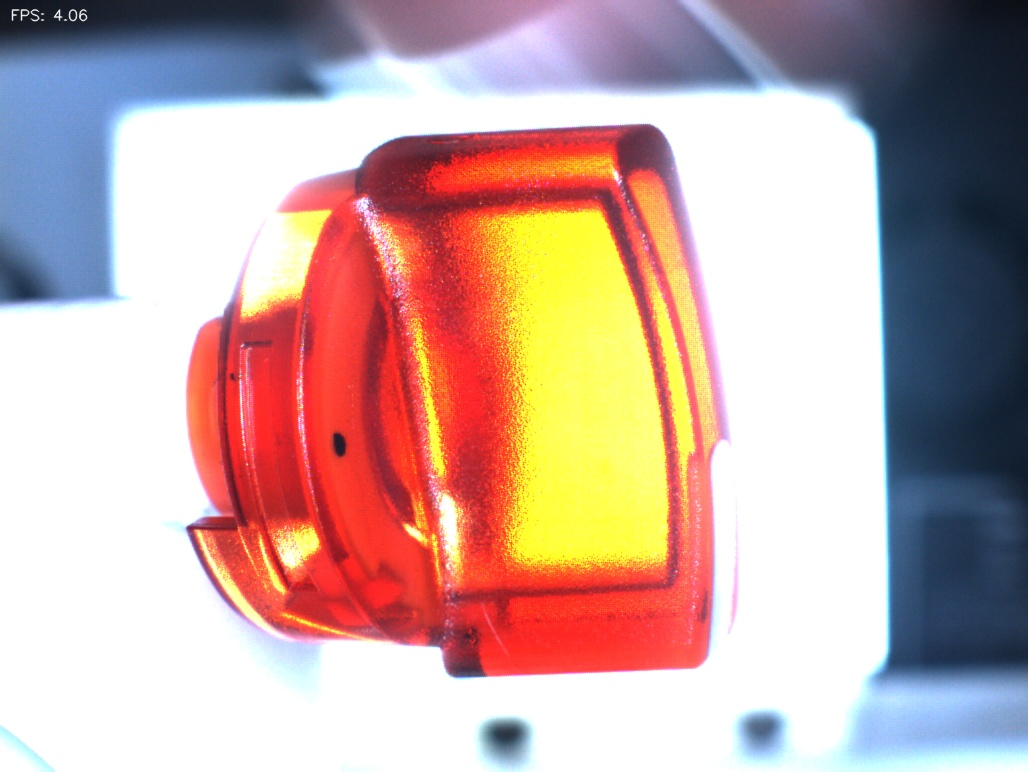PointNoir: (301, 406, 383, 486)
